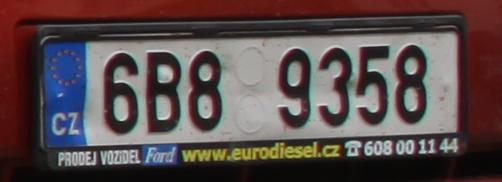3: (319, 47, 350, 127)
5: (358, 47, 388, 126)
6: (104, 52, 137, 133)
8: (189, 51, 220, 131), (397, 45, 426, 126)
9: (278, 49, 310, 128)
B: (147, 51, 179, 133)
